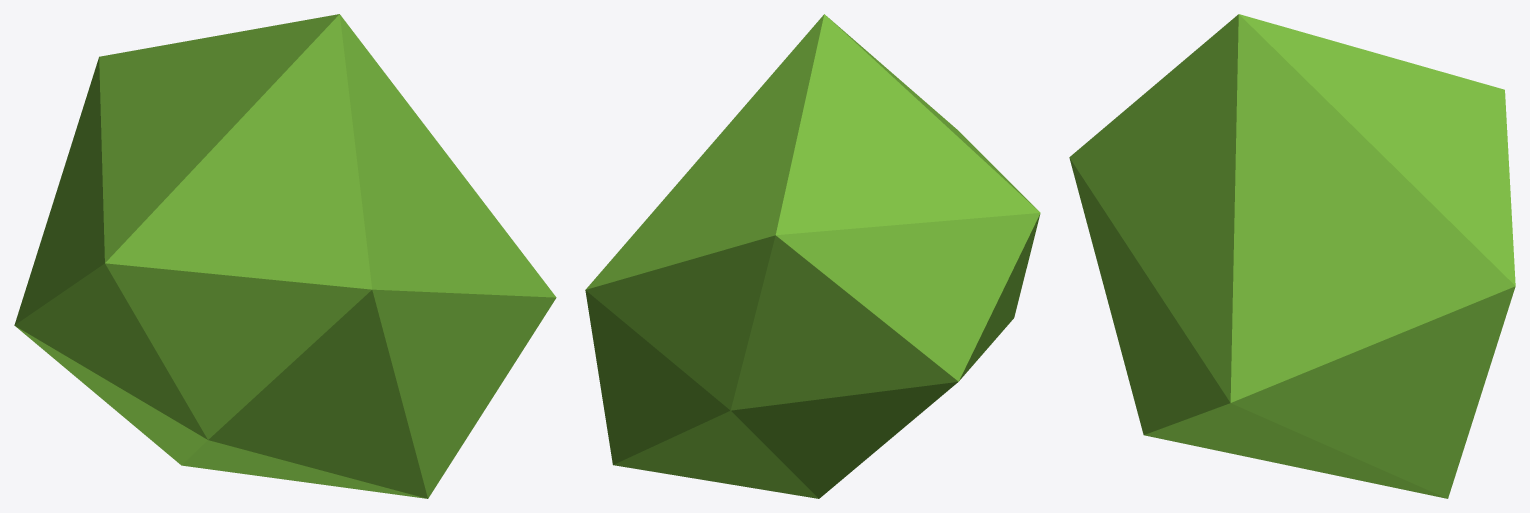
The model's file is Bush1.fbx.
The picture shows the model from 3 angles, left to right: view 1: azimuth 30°, elevation 25°; view 2: azimuth 150°, elevation 25°; view 3: azimuth 270°, elevation 25°; orthographic projection. The views are drawn at different scales.
Parts seen in each view (by area): view 1: Bush_3a; view 2: Bush_3a; view 3: Bush_3a.
Boxes of the visible parts, x1=… form: Bush_3a: x1=14, y1=14, x2=556, y2=498; Bush_3a: x1=585, y1=14, x2=1040, y2=498; Bush_3a: x1=1069, y1=14, x2=1515, y2=498.
Bounding box in the file's own units: 240 × 247 × 227.
